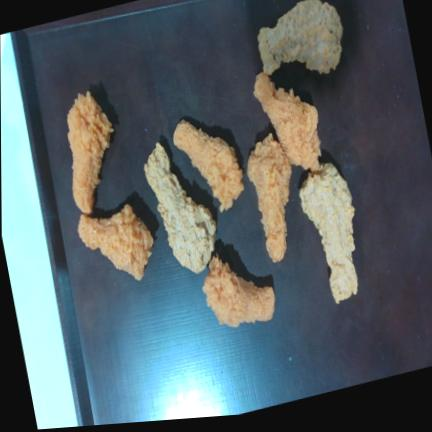chicken: (144, 143, 216, 273), (300, 163, 358, 303), (254, 72, 321, 170), (258, 0, 343, 75), (173, 120, 243, 211), (78, 204, 153, 280), (247, 133, 291, 262), (67, 91, 113, 213), (203, 256, 275, 326)
